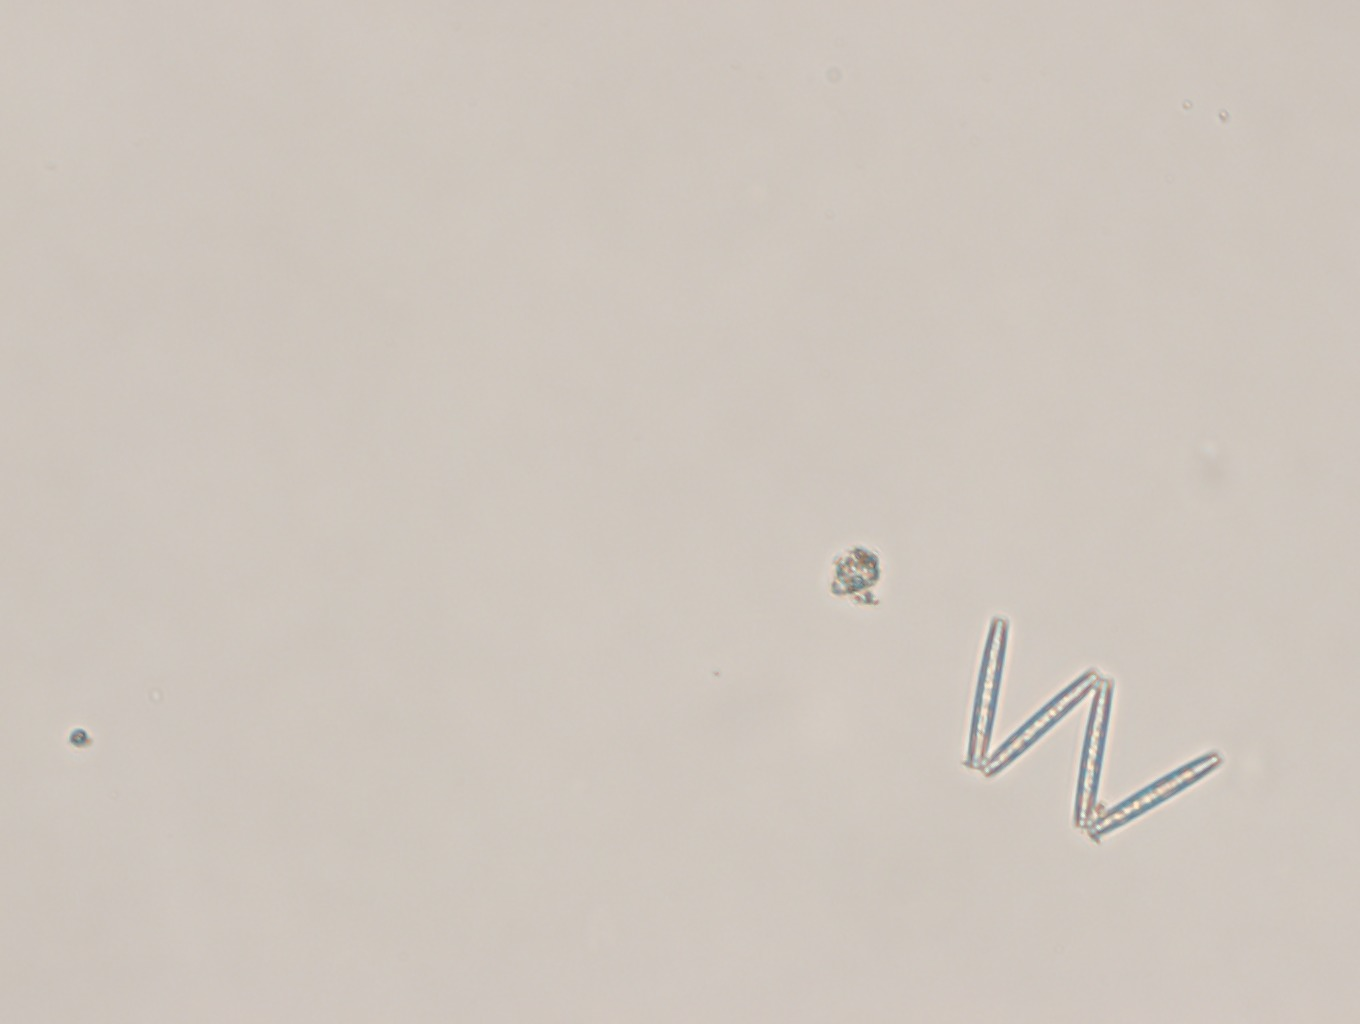thalassionema nitzschioides: (956, 611, 1231, 842)
